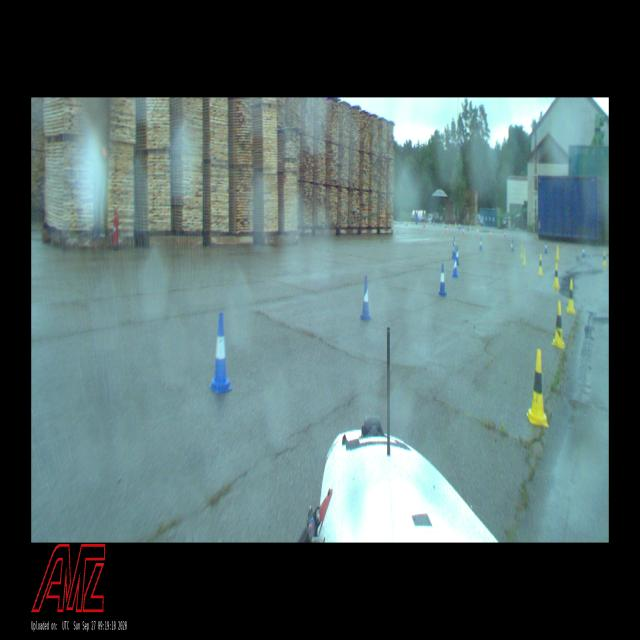blue_cone: (209, 314, 233, 393), (360, 277, 372, 321), (438, 264, 446, 296), (452, 253, 458, 278), (452, 241, 456, 259), (456, 247, 460, 264), (510, 239, 514, 252), (479, 238, 483, 250), (544, 242, 547, 254), (582, 246, 585, 258)
yellow_cone: (527, 349, 549, 427), (552, 301, 564, 349), (567, 279, 575, 314), (553, 262, 559, 288), (538, 254, 542, 274), (602, 250, 606, 266), (522, 249, 526, 264), (555, 246, 559, 259)
